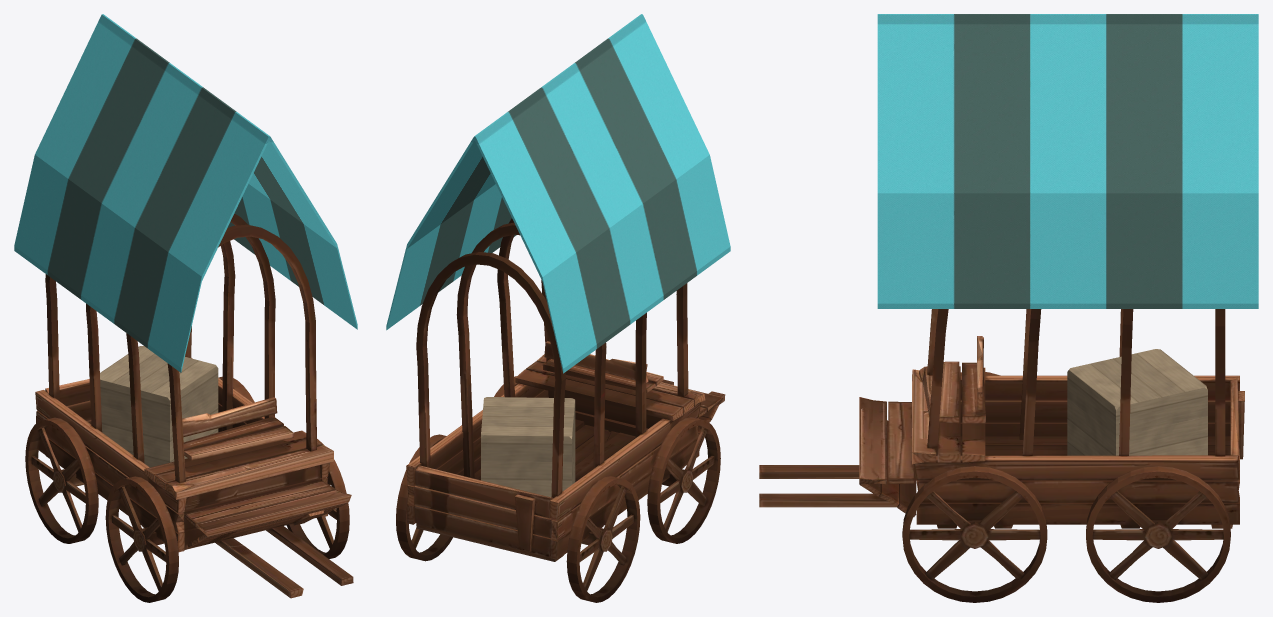
Rendered from fable_t02.glb.
3 renders of one model, left to right at view 1: azimuth 30°, elevation 25°; view 2: azimuth 150°, elevation 25°; view 3: azimuth 270°, elevation 25°, orthographic. The views are drawn at different scales.
Visible parts, largest first — view 1: canopy_shell, slot_anchor_frame, crate_body, slot_front_wheels; view 2: canopy_shell, slot_anchor_frame, crate_body, slot_front_wheels; view 3: canopy_shell, slot_anchor_frame, crate_body, slot_front_wheels.
Part boxes in pixels (bbox=[...]): canopy_shell: bbox=[14, 14, 357, 372]; slot_anchor_frame: bbox=[25, 213, 353, 598]; crate_body: bbox=[100, 346, 218, 467]; slot_front_wheels: bbox=[105, 439, 349, 602]; canopy_shell: bbox=[386, 14, 730, 373]; slot_anchor_frame: bbox=[396, 218, 725, 602]; crate_body: bbox=[481, 397, 575, 497]; slot_front_wheels: bbox=[494, 376, 720, 543]; canopy_shell: bbox=[877, 14, 1258, 308]; slot_anchor_frame: bbox=[759, 309, 1244, 602]; crate_body: bbox=[1067, 349, 1207, 455]; slot_front_wheels: bbox=[902, 372, 1047, 602].
Size of the model in its own units: 0.9611 by 2.4 by 2.02.
Materials: 3 (3 with a texture image).
